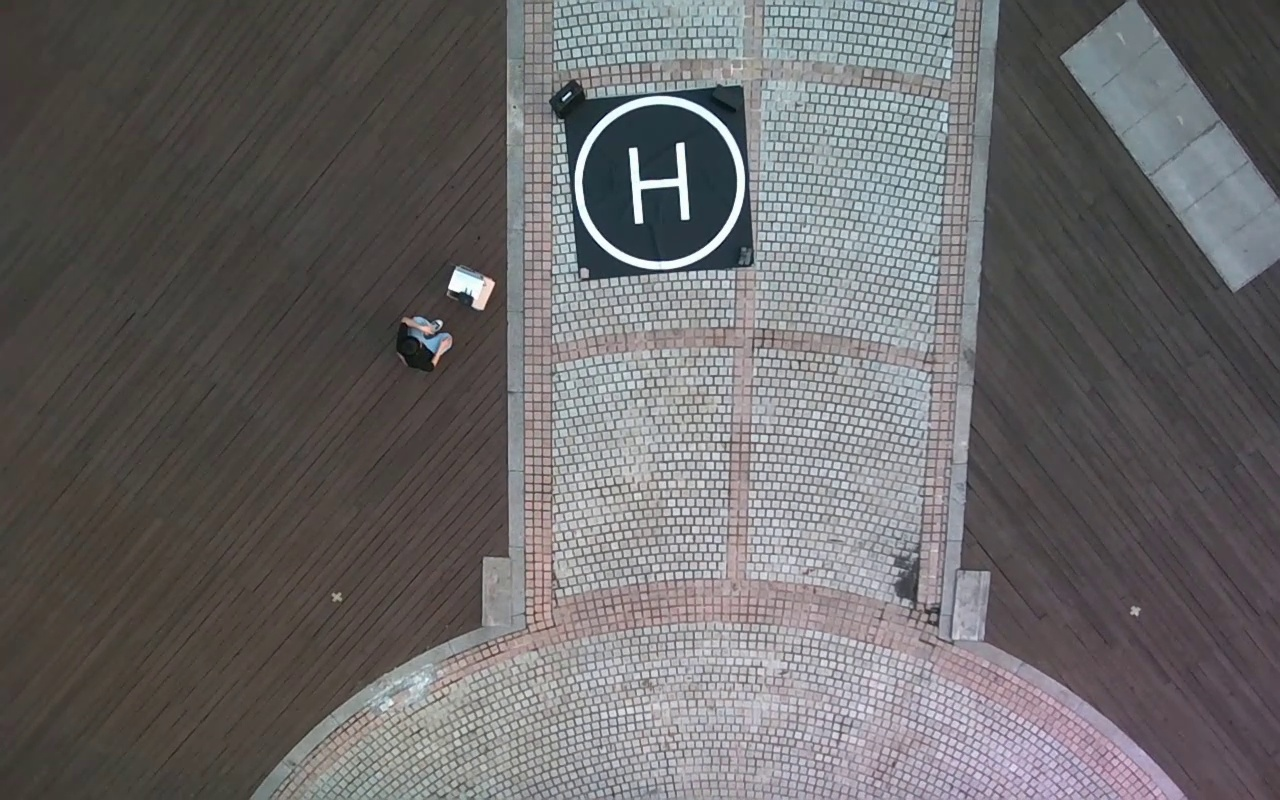H: (628, 141, 691, 225)
heliport: (575, 96, 747, 270)
